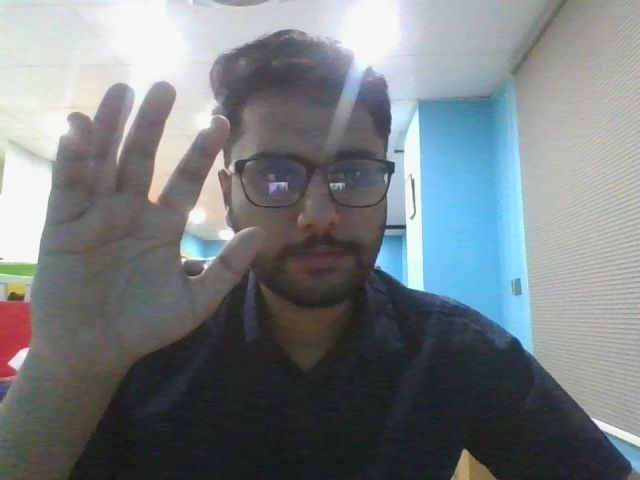hello: (27, 72, 265, 404)
